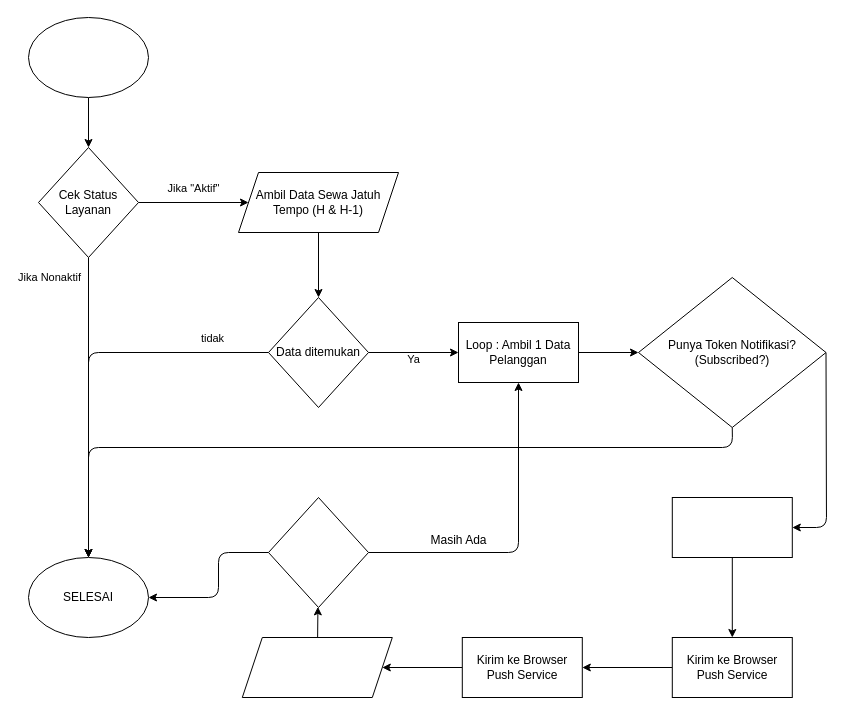
Image size: 852x715. Some labels were removed from this diagram. Here are the shapes that lost their labels. From the top down, the centre of each, then its label:
(88,57): MULAI
(731,527): Generate Pesan (Replace {nama}, {barang})
(318,552): Cek Data Berikutnya?
(316,667): Simpan Log "Sukses"
